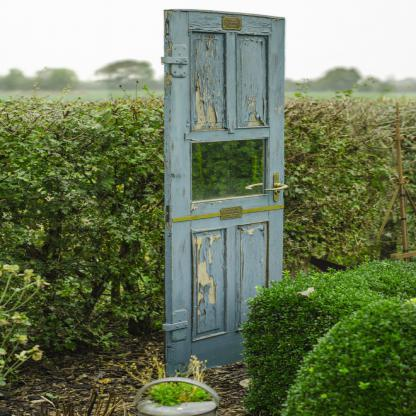door: (163, 6, 293, 372)
lever: (264, 181, 290, 196)
